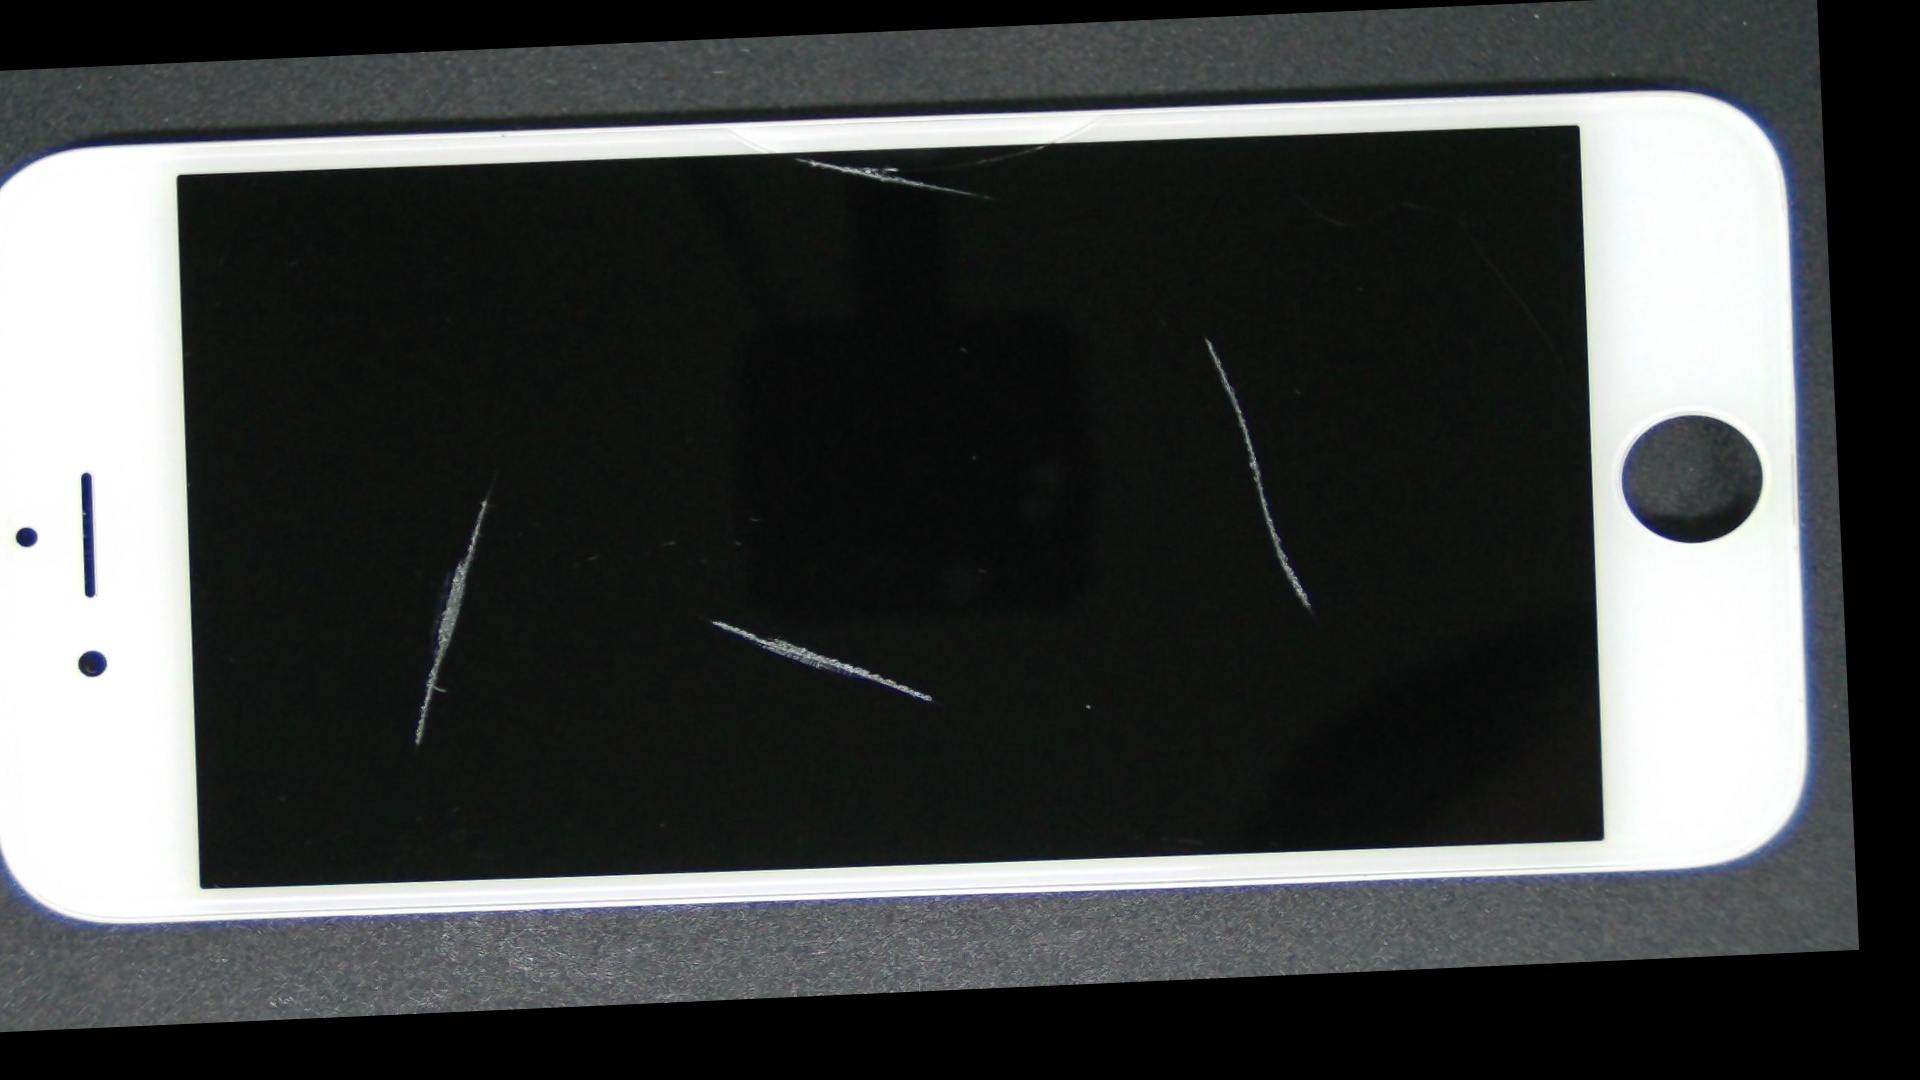oil: (316, 313, 1102, 927), (564, 149, 1838, 527), (206, 262, 764, 736), (359, 78, 1226, 239)
